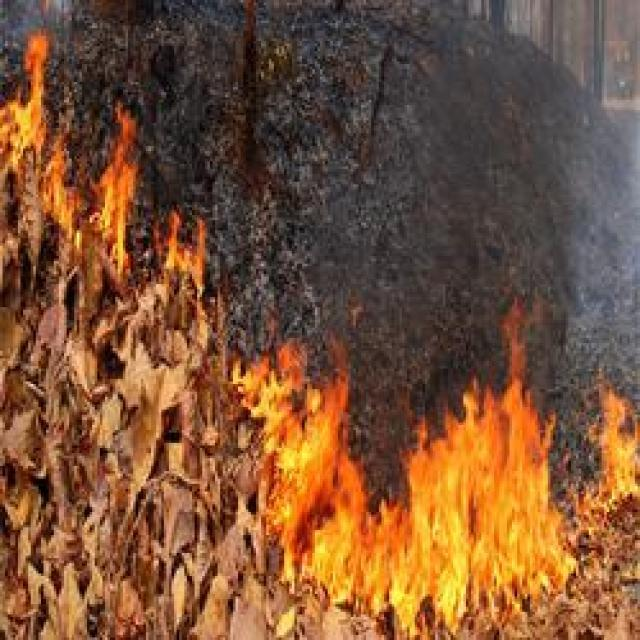Fire: (510, 374, 640, 548), (254, 360, 354, 555), (95, 125, 205, 293), (378, 448, 472, 606), (20, 58, 70, 188)
Smoke: (495, 66, 640, 238)
